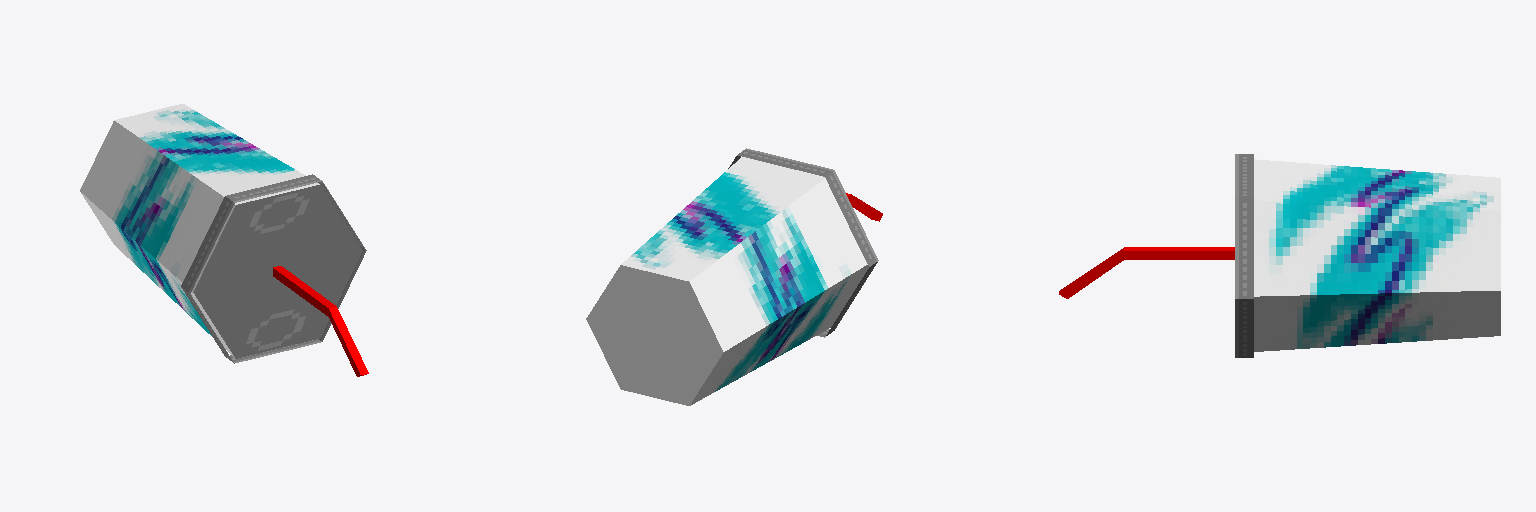
3 renders of one model, left to right at view 1: azimuth 30°, elevation 25°; view 2: azimuth 150°, elevation 25°; view 3: azimuth 270°, elevation 25°, orthographic.
Parts seen in each view (by area): view 1: Cylinder001; view 2: Cylinder001; view 3: Cylinder001.
Boxes of the visible parts, x1=… form: Cylinder001: x1=80, y1=104, x2=368, y2=376; Cylinder001: x1=586, y1=148, x2=882, y2=405; Cylinder001: x1=1059, y1=154, x2=1500, y2=357.
Bounding box in the file's own units: 42.67 × 37.19 × 92.47.
1 materials, 1 textured.